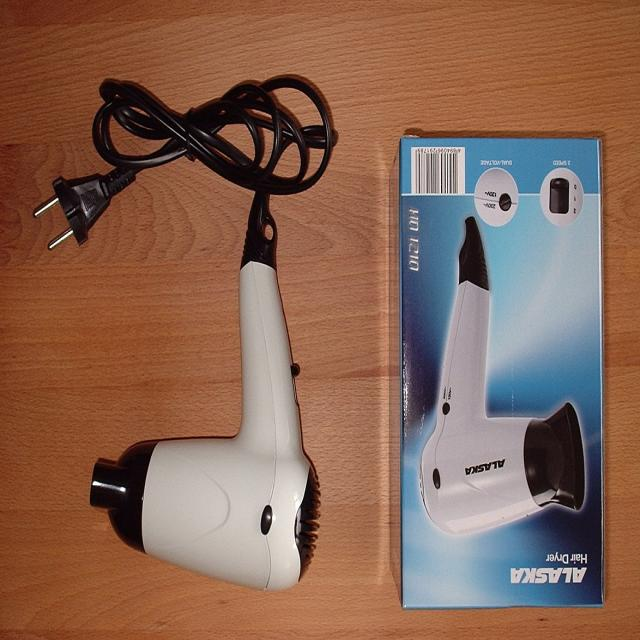dryer: (87, 180, 322, 592), (418, 215, 587, 540)
